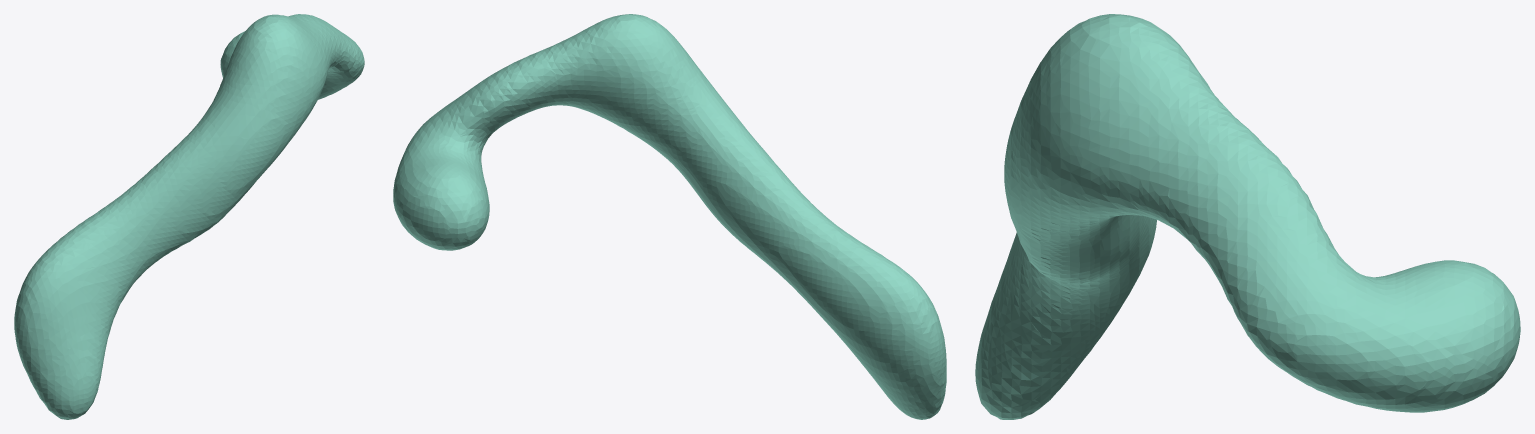
Rendered from ours.glb.
3 views of the same model, side by side, from view 1: azimuth 30°, elevation 25°; view 2: azimuth 150°, elevation 25°; view 3: azimuth 270°, elevation 25° (orthographic). The views are drawn at different scales.
Parts seen in each view (by area): view 1: world; view 2: world; view 3: world.
Part boxes in pixels (box(x1,y1,x2,y2)): world: box(14, 14, 364, 419); world: box(393, 14, 946, 419); world: box(975, 14, 1520, 419).
Size of the model in its own units: 0.7068 by 0.534 by 0.4326.
